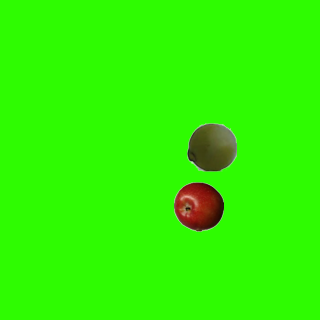Apple Braeburn: (173, 181, 223, 231)
Grape White 4: (186, 121, 236, 171)
